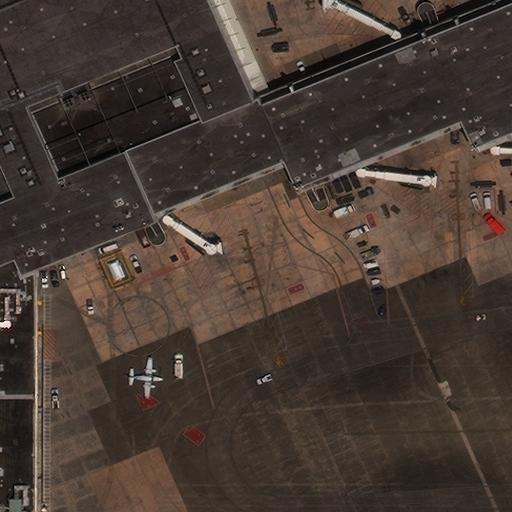Small Civil Transport: (126, 357, 163, 398)
